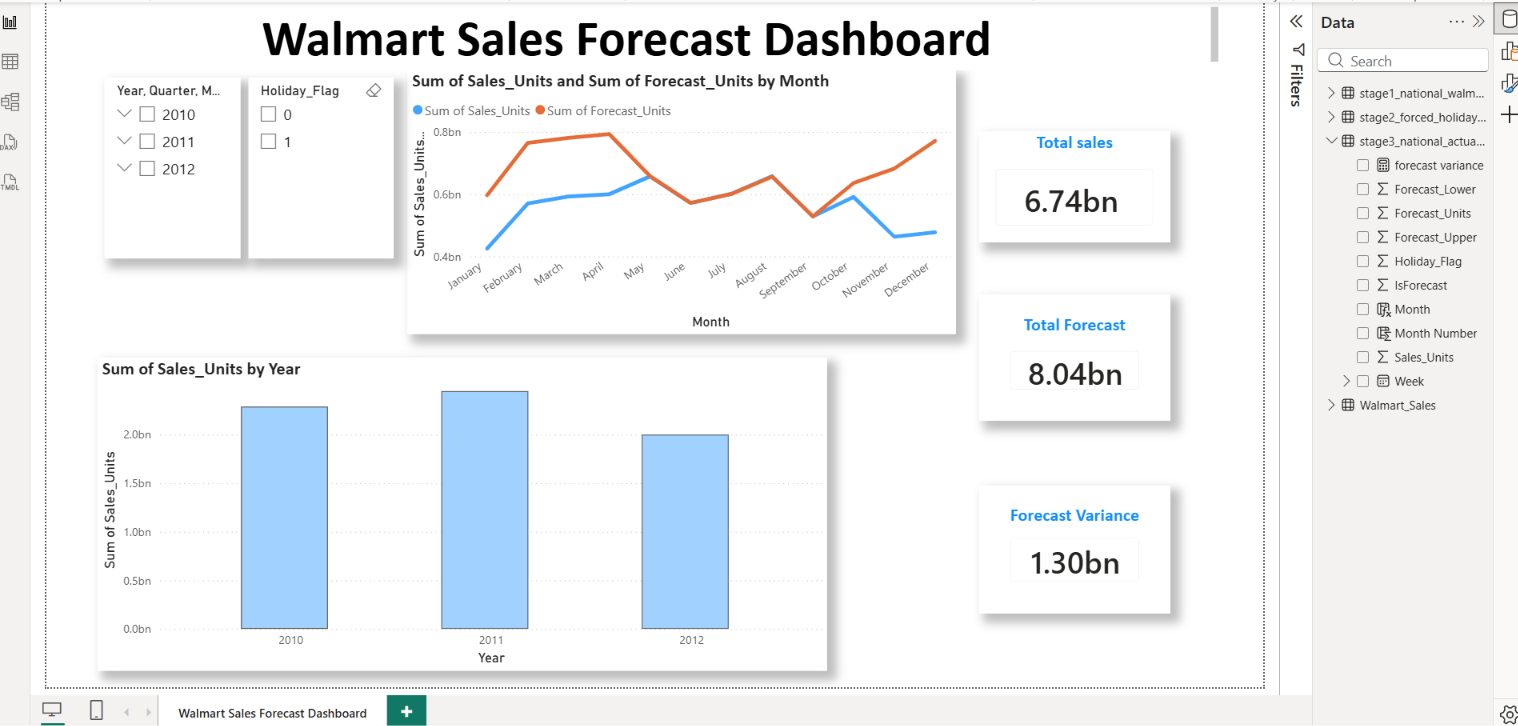

The page's visual inventory and layout, read from the dashboard file:
{"tool":"powerbi","page":{"name":"Walmart Sales Forecast Dashboard","canvas":[1280,720],"ordinal":0},"visuals":[{"type":"lineChart","fields":{"Category":["stage3_national_actual_vs_forecast.Week.Variation.Date Hierarchy.Year","stage3_national_actual_vs_forecast.Week.Variation.Date Hierarchy.Quarter","stage3_national_actual_vs_forecast.Week.Variation.Date Hierarchy.Month","stage3_national_actual_vs_forecast.Week.Variation.Date Hierarchy.Day"],"Y":["Sum(stage3_national_actual_vs_forecast.Sales_Units)","Sum(stage3_national_actual_vs_forecast.Forecast_Units)"]},"box":[379.4,70.7,577.1,278.5],"z":0},{"type":"slicer","fields":{"Values":["stage3_national_actual_vs_forecast.Week.Variation.Date Hierarchy.Year","stage3_national_actual_vs_forecast.Week.Variation.Date Hierarchy.Quarter","stage3_national_actual_vs_forecast.Week.Variation.Date Hierarchy.Month","stage3_national_actual_vs_forecast.Week.Variation.Date Hierarchy.Day"]},"box":[60.6,79.4,142.8,190.4],"z":3000},{"type":"textbox","box":[222.2,0,1015.6,71.1],"z":4000},{"type":"slicer","fields":{"Values":["stage3_national_actual_vs_forecast.Holiday_Flag"]},"box":[212.1,79.4,152.9,190.4],"z":6000},{"type":"clusteredColumnChart","fields":{"Category":["stage3_national_actual_vs_forecast.Week.Variation.Date Hierarchy.Year","stage3_national_actual_vs_forecast.Week.Variation.Date Hierarchy.Quarter","stage3_national_actual_vs_forecast.Week.Variation.Date Hierarchy.Month","stage3_national_actual_vs_forecast.Week.Variation.Date Hierarchy.Day"],"Y":["Sum(stage3_national_actual_vs_forecast.Sales_Units)"]},"box":[53.4,373.8,767.1,329.3],"z":6001},{"type":"cardVisual","title":"Forecast Variance ","fields":{"Data":["stage3_national_actual_vs_forecast.forecast variance"]},"box":[981.1,507.9,200.5,134.2],"z":6002},{"type":"cardVisual","title":"Total Forecast","fields":{"Data":["Sum(stage3_national_actual_vs_forecast.Forecast_Units)"]},"box":[981.1,307.3,200.5,132.7],"z":6003},{"type":"cardVisual","title":"Total sales ","fields":{"Data":["Sum(stage3_national_actual_vs_forecast.Sales_Units)"]},"box":[981.1,135.6,200.5,116.9],"z":6004}]}

Visuals, with their boxes on the page's 1280x720 design canvas (x1, y1, x2, y2). These are canvas units, not pixel positions in the 1518x726 screenshot, which may show the page scaled, cropped or inside an application window:
lineChart - stage3_national_actual_vs_forecast.Week.Variation.Date Hierarchy.Year x stage3_national_actual_vs_forecast.Week.Variation.Date Hierarchy.Quarter: 379, 71, 956, 349
slicer - stage3_national_actual_vs_forecast.Week.Variation.Date Hierarchy.Year x stage3_national_actual_vs_forecast.Week.Variation.Date Hierarchy.Quarter: 61, 79, 203, 270
textbox: 222, 0, 1238, 71
slicer - stage3_national_actual_vs_forecast.Holiday_Flag: 212, 79, 365, 270
clusteredColumnChart - stage3_national_actual_vs_forecast.Week.Variation.Date Hierarchy.Year x stage3_national_actual_vs_forecast.Week.Variation.Date Hierarchy.Quarter: 53, 374, 820, 703
"Forecast Variance " cardVisual: 981, 508, 1182, 642
"Total Forecast" cardVisual: 981, 307, 1182, 440
"Total sales " cardVisual: 981, 136, 1182, 252
